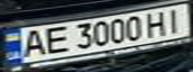0: (124, 12, 148, 42), (90, 18, 112, 47), (109, 16, 130, 44)
3: (72, 20, 93, 51)
A: (15, 27, 51, 60)
E: (39, 24, 72, 56)
H: (142, 8, 172, 37)
I: (160, 6, 190, 34)
